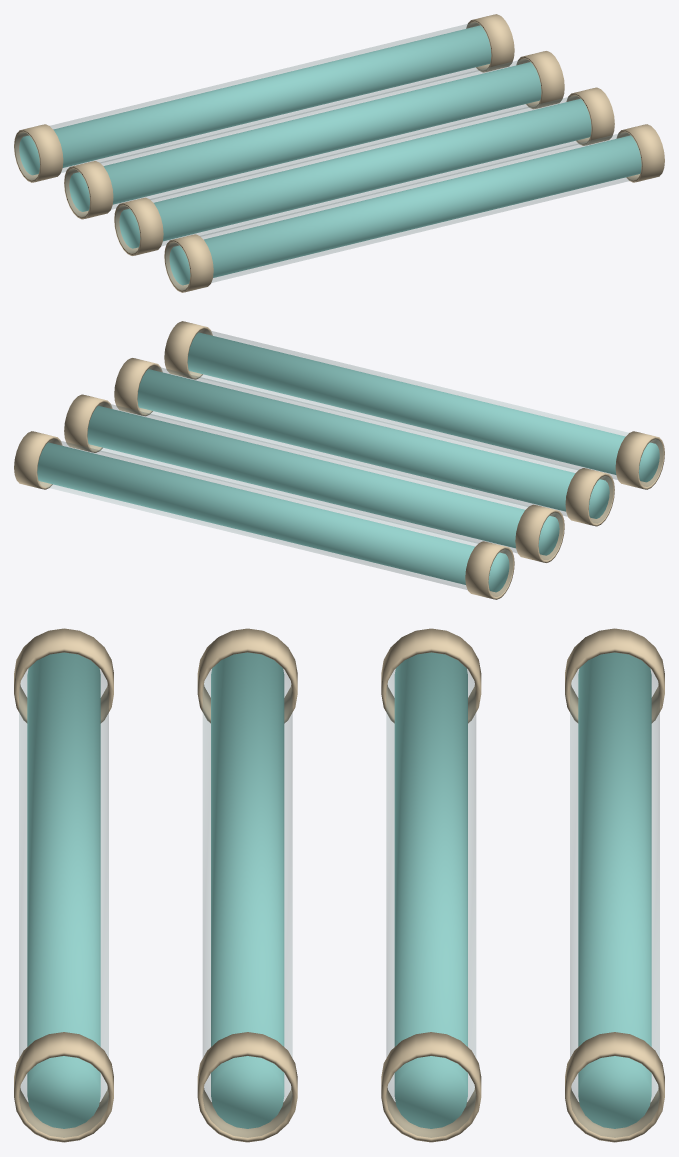
The model's file is Floor_Tube_Run_6m.glb.
The picture shows the model from 3 angles, top to bottom: view 1: azimuth 30°, elevation 25°; view 2: azimuth 150°, elevation 25°; view 3: azimuth 270°, elevation 25°; orthographic projection. The views are drawn at different scales.
Parts seen in each view (by area): view 1: Glass, Goo, Sleeves; view 2: Glass, Goo, Sleeves; view 3: Glass, Goo, Sleeves.
Boxes of the visible parts, left/top/right/bottom form: Glass: left=15, top=22, right=640, bottom=289; Goo: left=19, top=25, right=641, bottom=285; Sleeves: left=14, top=14, right=664, bottom=292; Glass: left=38, top=329, right=663, bottom=596; Goo: left=37, top=332, right=659, bottom=592; Sleeves: left=14, top=321, right=664, bottom=599; Glass: left=19, top=653, right=659, bottom=1137; Goo: left=27, top=652, right=651, bottom=1128; Sleeves: left=14, top=628, right=664, bottom=1142.
Size of the model in its own units: 6 by 0.6 by 3.9.
